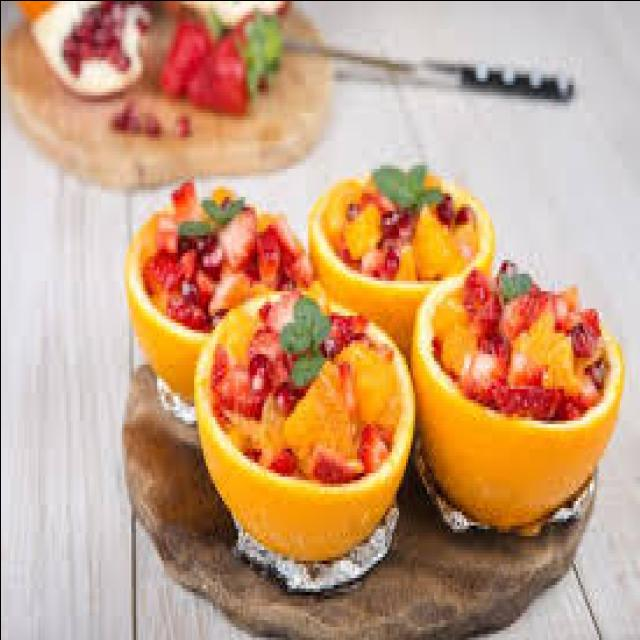orange: (192, 295, 412, 555)
